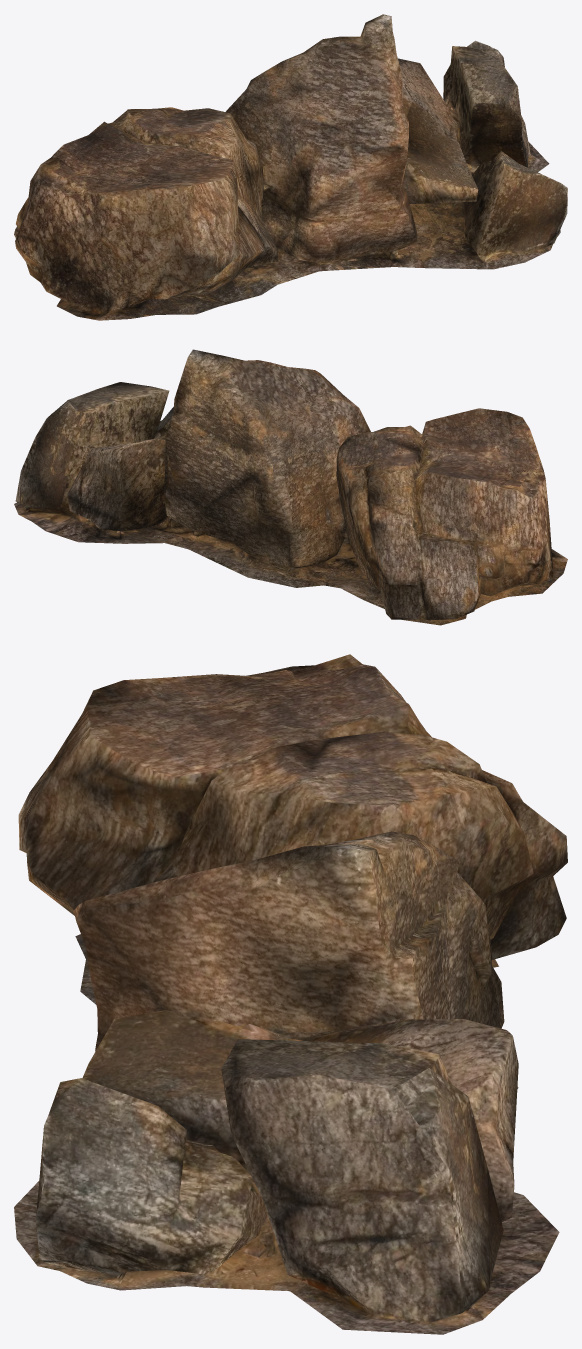
3 renders of one model, top to bottom at view 1: azimuth 30°, elevation 25°; view 2: azimuth 150°, elevation 25°; view 3: azimuth 270°, elevation 25°, orthographic. The views are drawn at different scales.
Visible parts, largest first — view 1: boulder_02; view 2: boulder_02; view 3: boulder_02.
Part boxes in pixels (<box>): boulder_02: <box>14,14,567,320</box>; boulder_02: <box>14,349,567,625</box>; boulder_02: <box>14,654,567,1334</box>.
Size of the model in its own units: 2.51 by 0.8696 by 1.23.
1 material, 1 textured.
